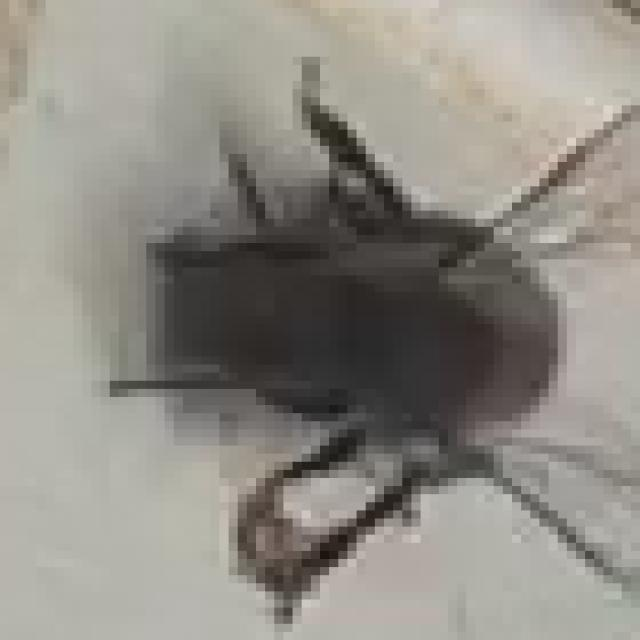honeybee: (105, 47, 638, 625)
